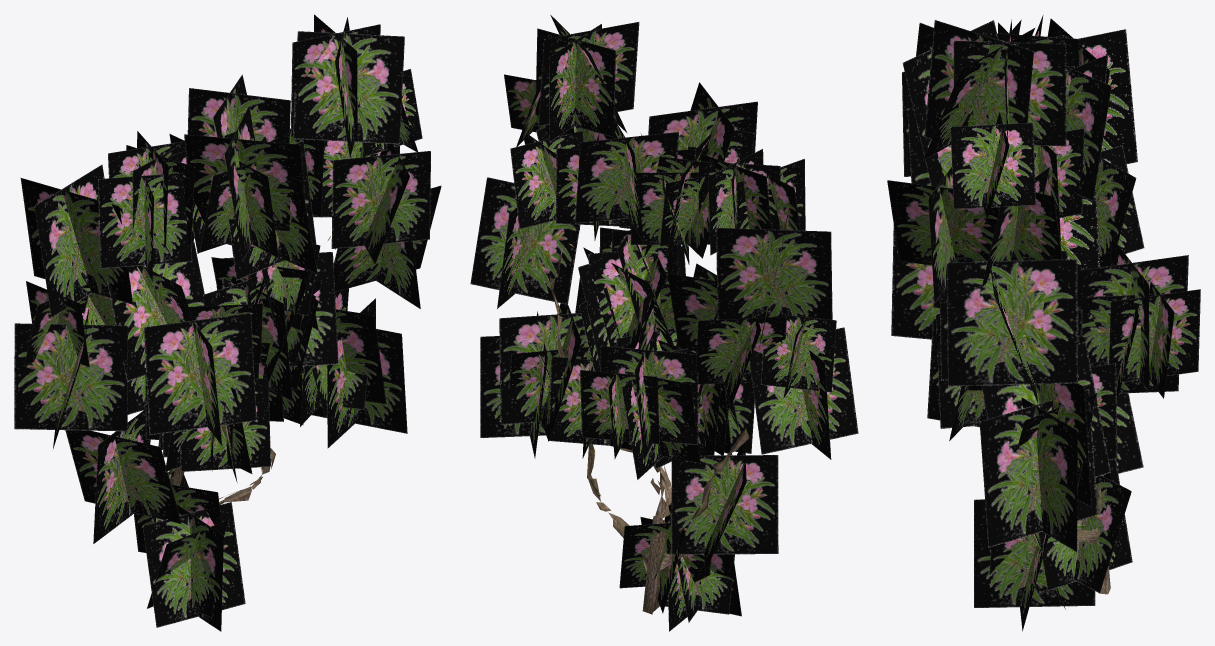
Rendered from desertwillow.glb.
3 renders of one model, left to right at view 1: azimuth 30°, elevation 25°; view 2: azimuth 150°, elevation 25°; view 3: azimuth 270°, elevation 25°, orthographic. The views are drawn at different scales.
Parts seen in each view (by area): view 1: cards, LO.001; view 2: cards, LO.001; view 3: cards, LO.001.
Boxes of the visible parts, x1,y1,x2,y2 form: cards: (14, 14, 441, 631); LO.001: (151, 236, 335, 517); cards: (470, 15, 858, 631); LO.001: (547, 243, 750, 614); cards: (887, 15, 1200, 631); LO.001: (1077, 384, 1122, 594).
Size of the model in its own units: 0.7885 by 1.07 by 0.4748.
2 materials, 2 textured.
